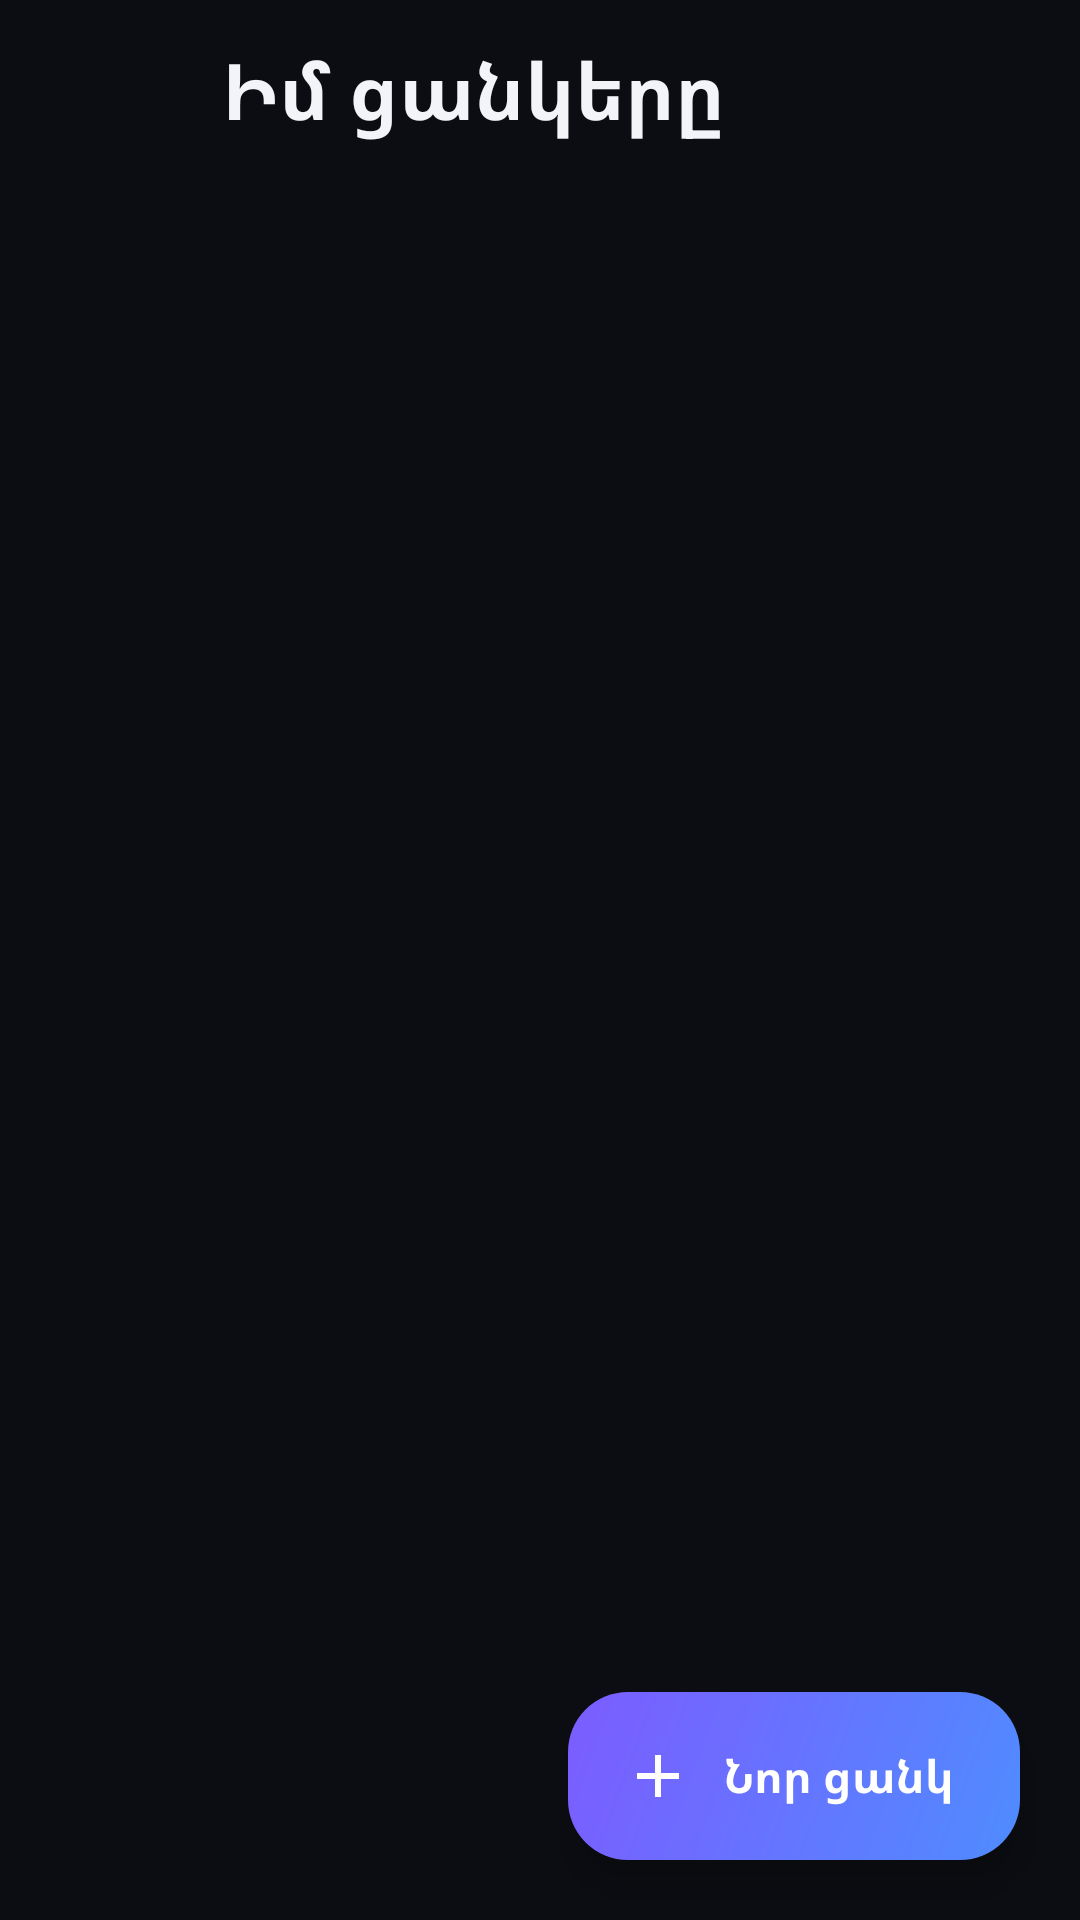

Icons on this 1080×1920 Android screen, each with its box as box=[x1, y1, x2, y2]:
add: box=[637, 1755, 679, 1797]
